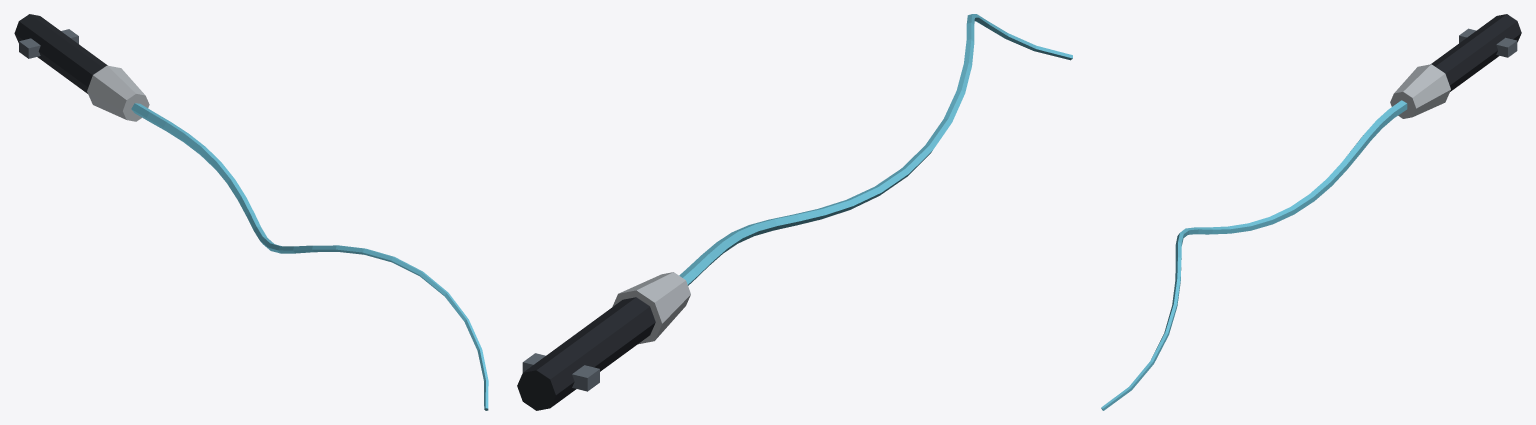
Rendered from electrowhip.glb.
3 views of the same model, side by side, from view 1: azimuth 30°, elevation 25°; view 2: azimuth 150°, elevation 25°; view 3: azimuth 330°, elevation 25° (orthographic). The views are drawn at different scales.
Visible parts, largest first — view 1: m; view 2: m; view 3: m.
Boxes of the visible parts, x1,y1,x2,y2 form: m: (14,14,488,410); m: (517,14,1072,410); m: (1101,14,1521,410).
Size of the model in its own units: 0.0399 by 0.0479 by 0.4.
